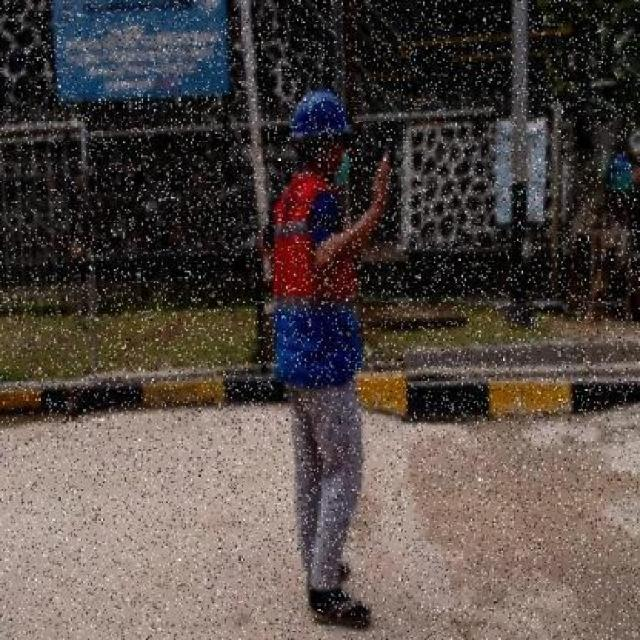Helmet: (288, 91, 357, 140)
Mask: (335, 153, 350, 190)
